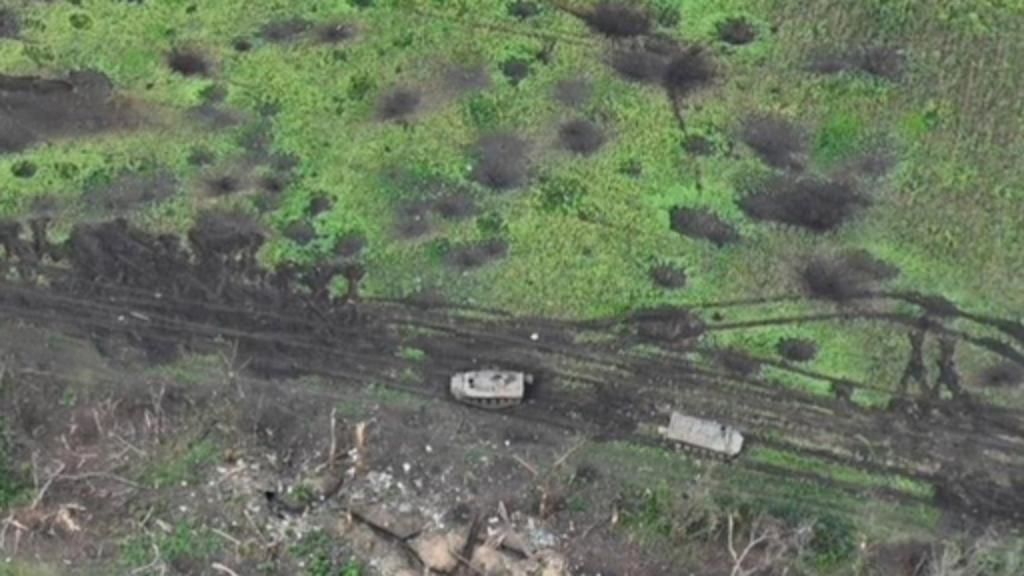APC-IFV: (436, 358, 532, 416), (654, 406, 744, 462)
